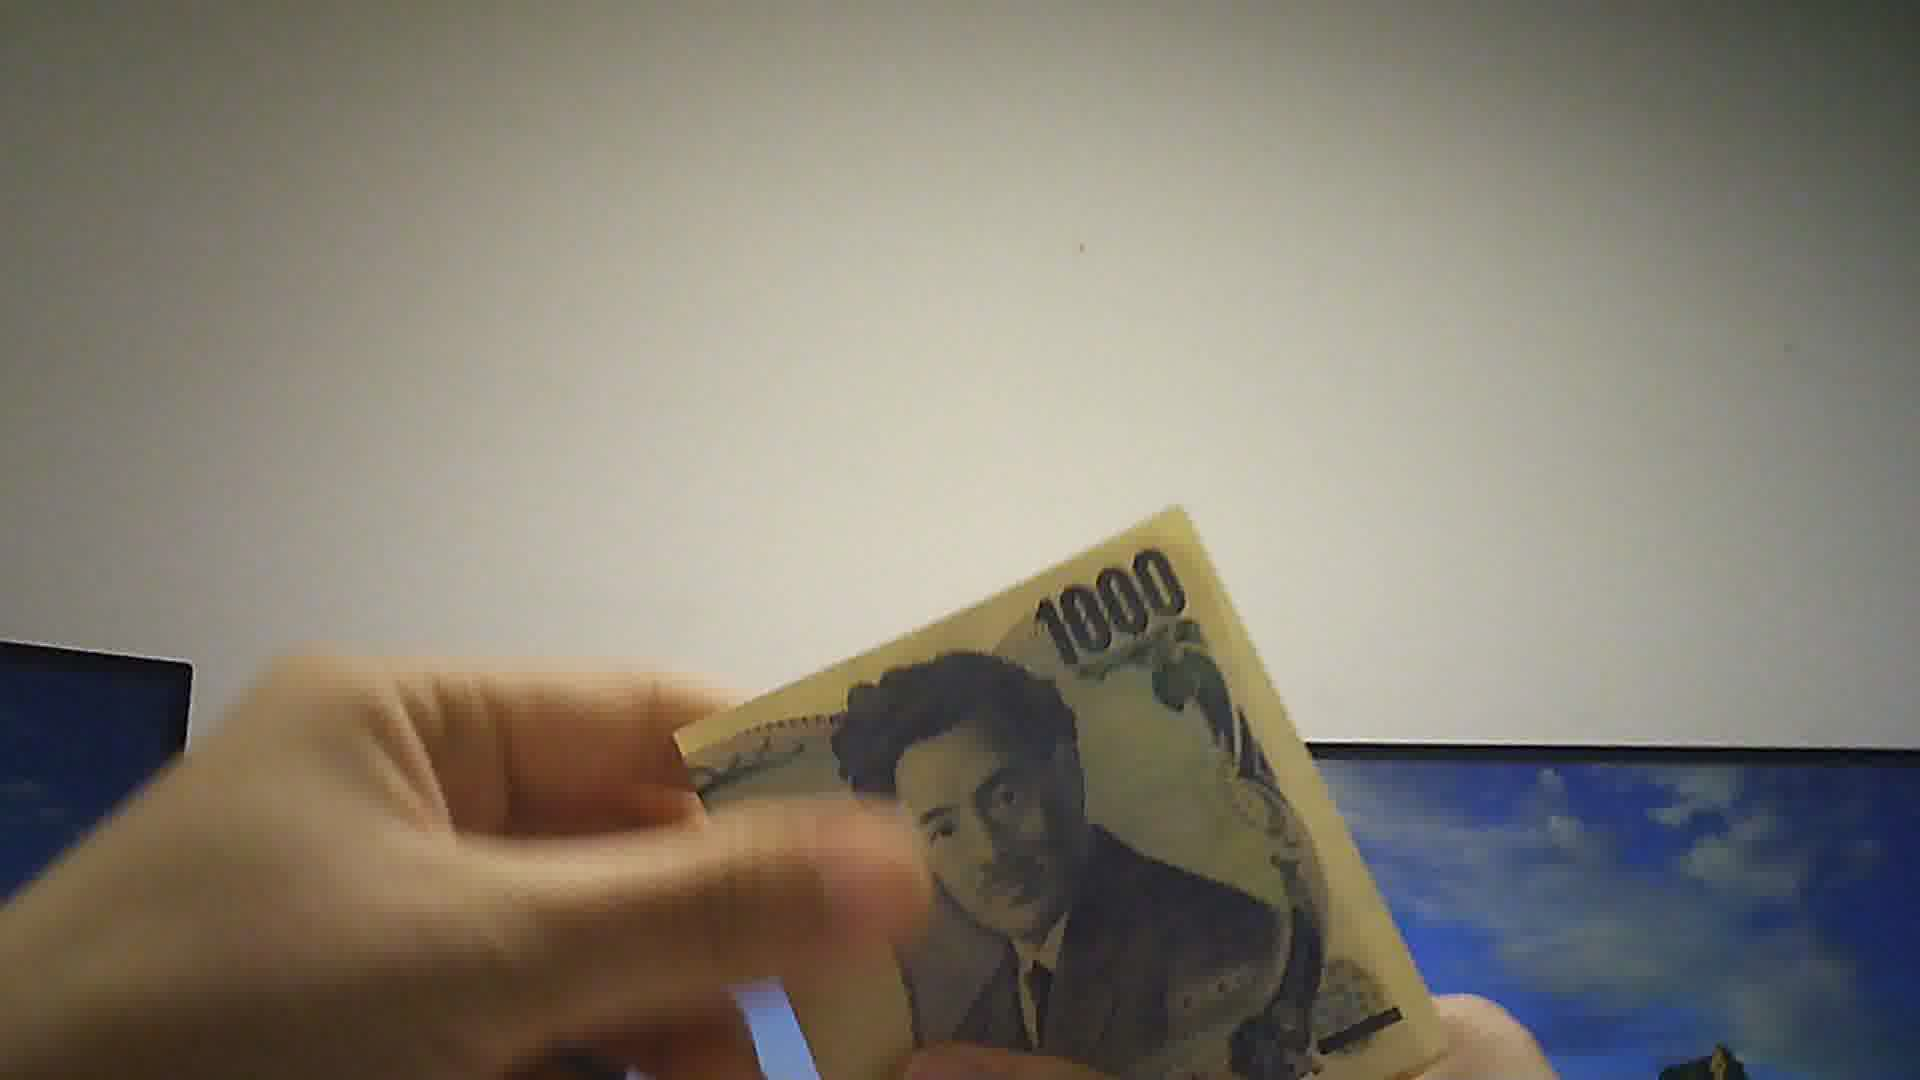1,000 Yen: (674, 492, 1408, 1079)
